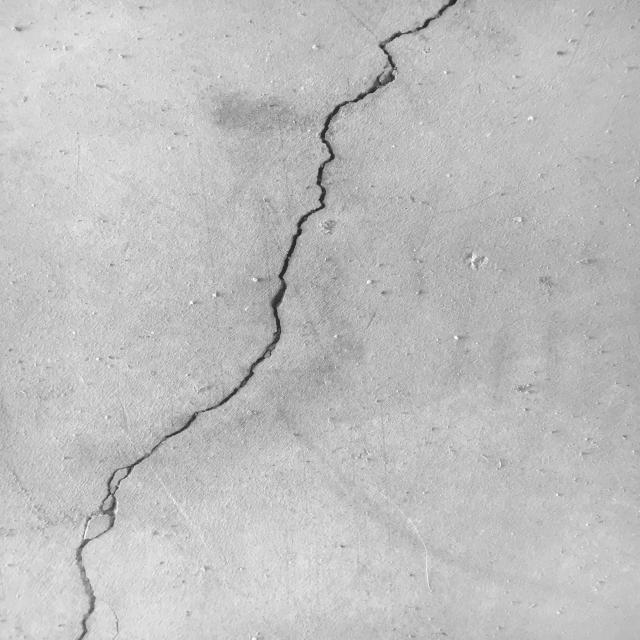SurfaceCrack: (19, 0, 639, 637)
